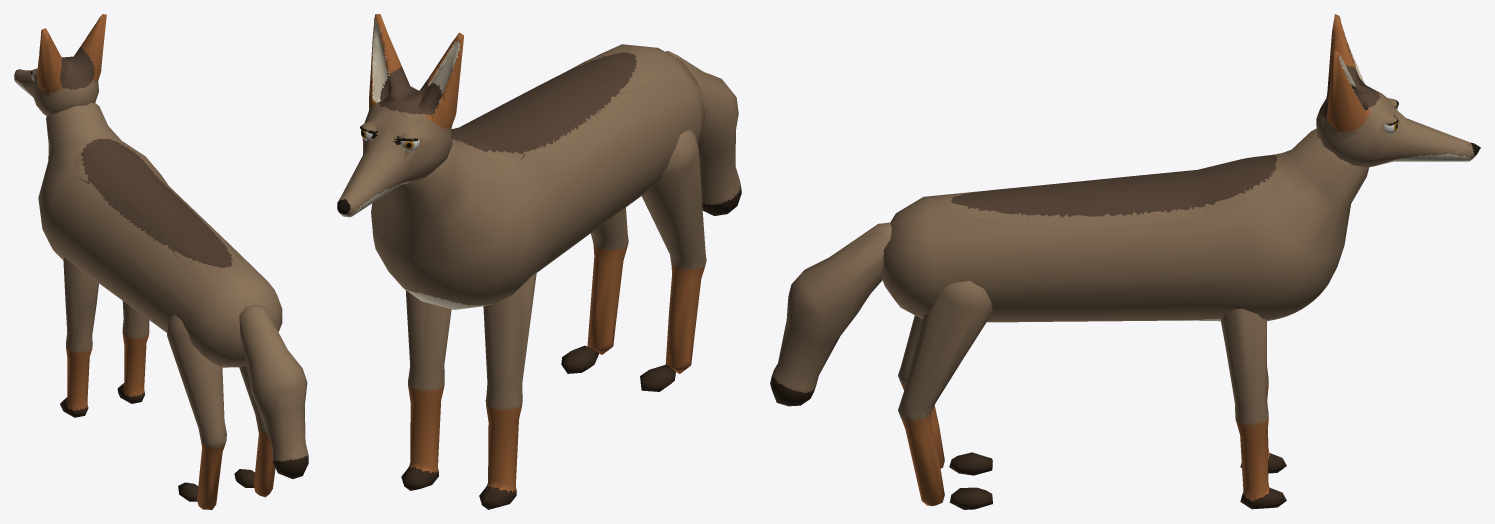
The model's file is coyote.glb.
3 renders of one model, left to right at view 1: azimuth 30°, elevation 25°; view 2: azimuth 150°, elevation 25°; view 3: azimuth 270°, elevation 25°, orthographic. The views are drawn at different scales.
Parts seen in each view (by area): view 1: body_lod0, tail_lod0, leg_2_lod0, head_lod0, leg_0_lod0, leg_1_lod0, leg_3_lod0; view 2: body_lod0, head_lod0, leg_2_lod0, leg_0_lod0, leg_1_lod0, tail_lod0, leg_3_lod0; view 3: body_lod0, tail_lod0, leg_3_lod0, head_lod0, leg_1_lod0, leg_2_lod0.
Part boxes in pixels (left/top/right/bottom): body_lod0: left=38, top=102, right=282, bottom=367; tail_lod0: left=239, top=304, right=308, bottom=478; leg_2_lod0: left=167, top=315, right=226, bottom=509; head_lod0: left=14, top=14, right=106, bottom=116; leg_0_lod0: left=60, top=258, right=98, bottom=417; leg_1_lod0: left=117, top=301, right=149, bottom=403; leg_3_lod0: left=234, top=365, right=275, bottom=497; body_lod0: left=371, top=44, right=705, bottom=309; head_lod0: left=337, top=14, right=463, bottom=217; leg_2_lod0: left=640, top=130, right=706, bottom=391; leg_0_lod0: left=479, top=272, right=536, bottom=509; leg_1_lod0: left=401, top=290, right=451, bottom=490; tail_lod0: left=665, top=51, right=741, bottom=215; leg_3_lod0: left=561, top=207, right=628, bottom=373; body_lod0: left=881, top=128, right=1369, bottom=322; tail_lod0: left=770, top=222, right=891, bottom=406; leg_3_lod0: left=898, top=281, right=992, bottom=509; head_lod0: left=1316, top=14, right=1480, bottom=167; leg_1_lod0: left=1220, top=309, right=1286, bottom=509; leg_2_lod0: left=898, top=315, right=992, bottom=475.
Size of what is drawn, in the model's own units: 0.3624 by 1.11 by 1.56.
